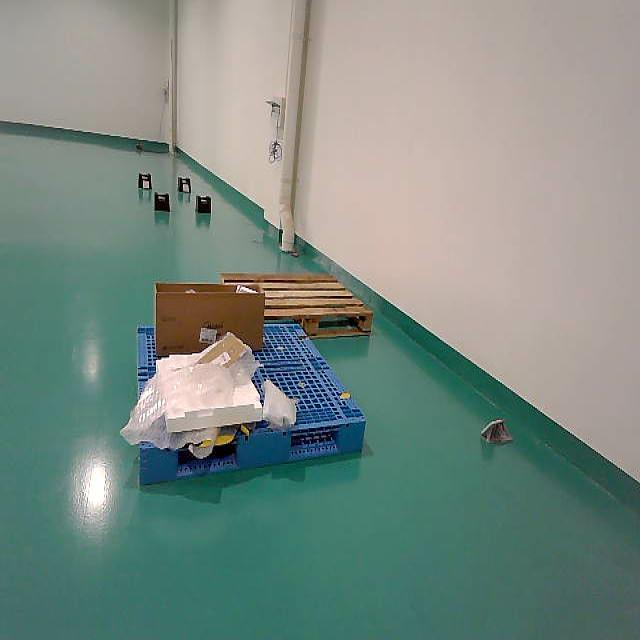euro: (221, 273, 372, 337)
